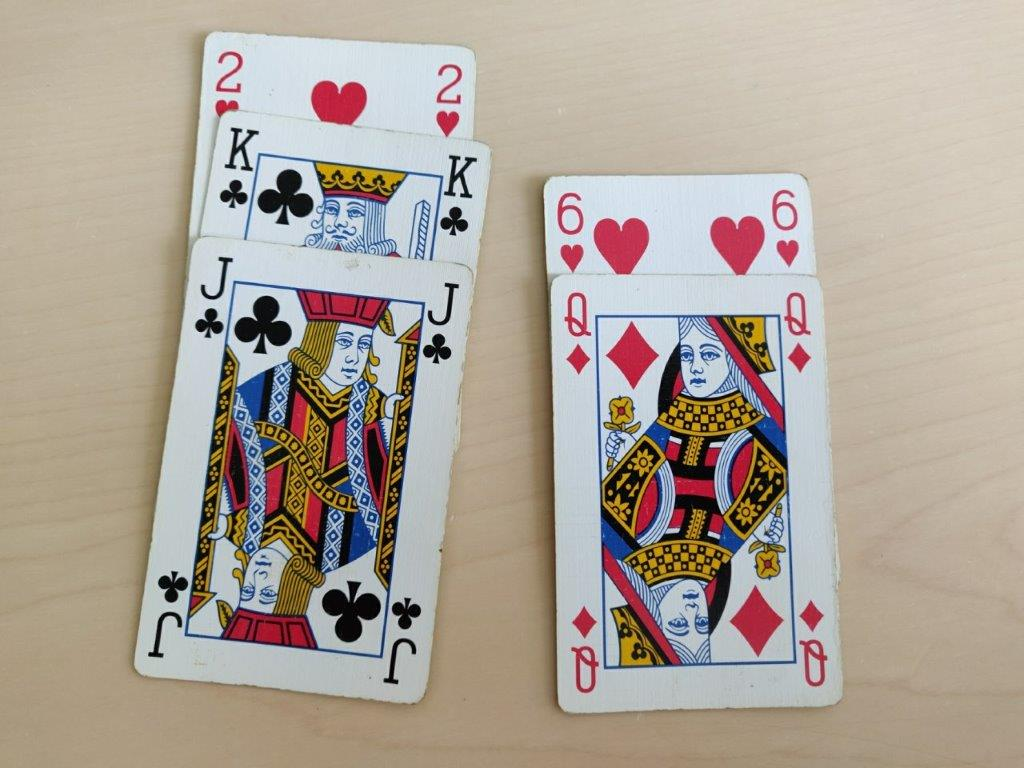2H: (428, 59, 469, 140)
6H: (552, 186, 591, 277), (768, 184, 803, 272)
JC: (419, 278, 463, 370), (192, 252, 238, 339)
KC: (215, 120, 261, 218), (437, 151, 478, 241)
QD: (557, 280, 597, 379), (782, 285, 815, 379)
